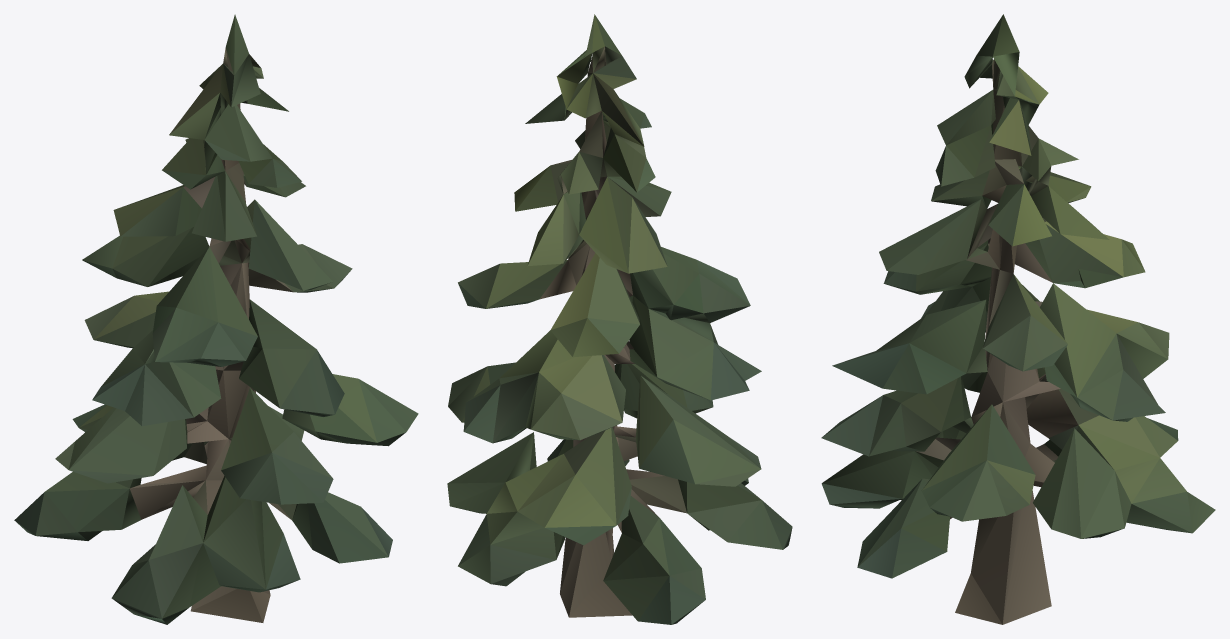
Rendered from fir-bigcone-douglas.glb.
3 views of the same model, side by side, from view 1: azimuth 30°, elevation 25°; view 2: azimuth 150°, elevation 25°; view 3: azimuth 270°, elevation 25° (orthographic).
Parts seen in each view (by area): view 1: fir-bigcone-douglas_LOD0; view 2: fir-bigcone-douglas_LOD0; view 3: fir-bigcone-douglas_LOD0.
Boxes of the visible parts, x1,y1,x2,y2 form: fir-bigcone-douglas_LOD0: [14, 14, 418, 624]; fir-bigcone-douglas_LOD0: [447, 14, 792, 624]; fir-bigcone-douglas_LOD0: [821, 14, 1215, 624].
Size of what is drawn, in the model's own units: 11.22 by 19.26 by 11.55.
